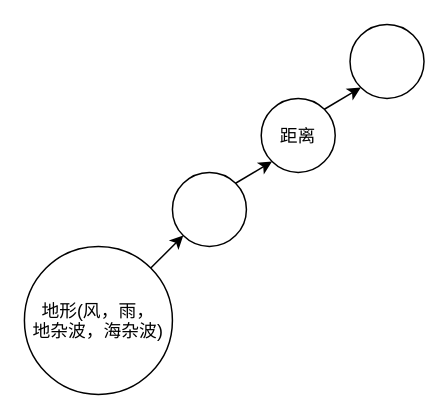
This 448x419 diagram has some shape labels left out. The box of each missing label's shape, as (x1, y1, x2, y2) in pixels:
形态: (349, 23, 424, 98)
方向: (171, 171, 246, 246)
